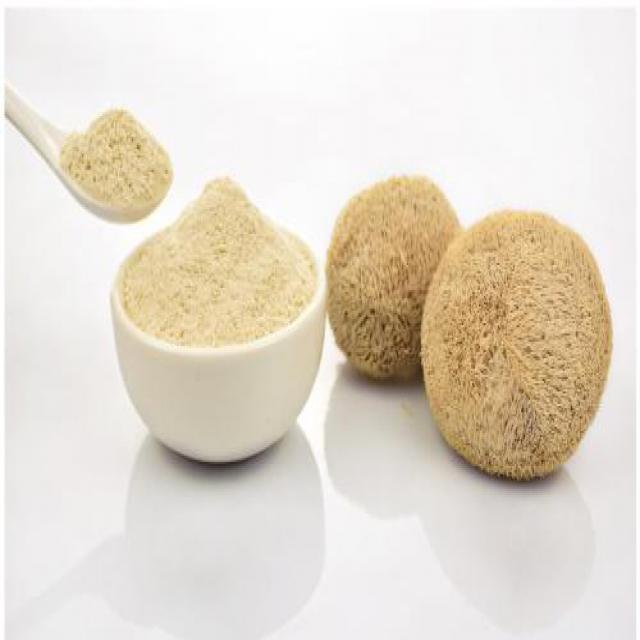Hericium erinaceus: (425, 210, 611, 478), (327, 176, 461, 376)
